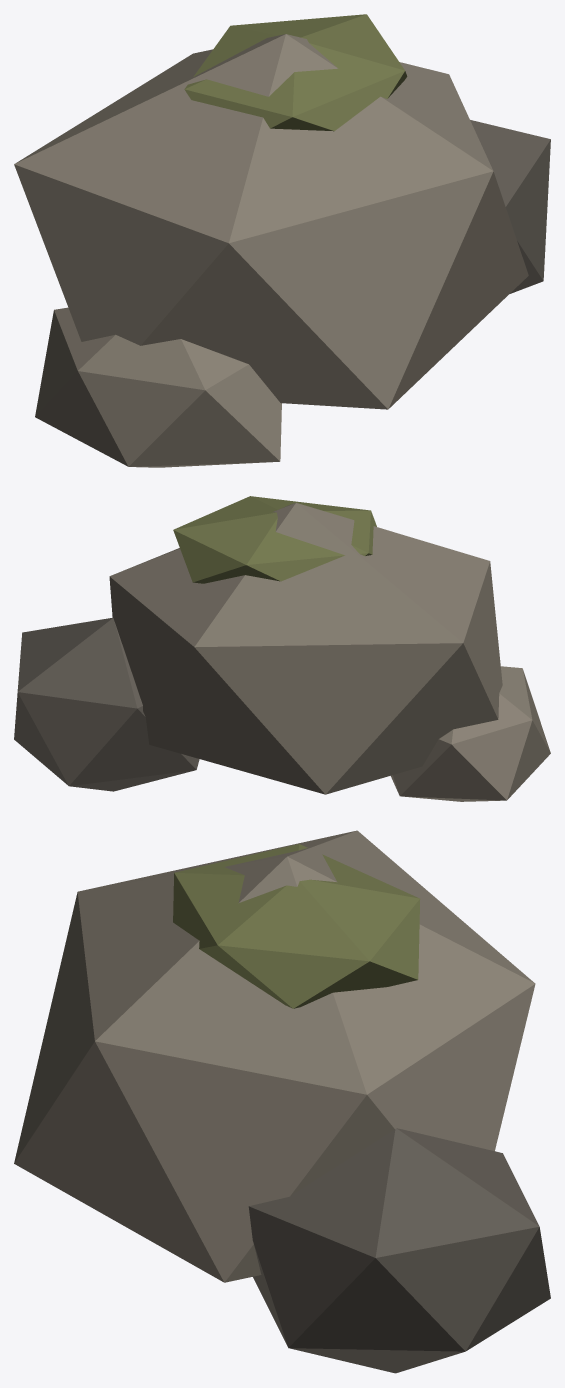
File: matacao.glb
3 views of the same model, one above another, from view 1: azimuth 30°, elevation 25°; view 2: azimuth 150°, elevation 25°; view 3: azimuth 270°, elevation 25° (orthographic). The views are drawn at different scales.
Parts seen in each view (by area): view 1: matacao; view 2: matacao; view 3: matacao.
Boxes of the visible parts, bbox=[...] form: matacao: bbox=[14, 14, 550, 467]; matacao: bbox=[14, 496, 550, 801]; matacao: bbox=[14, 830, 550, 1373].
Size of the model in its own units: 4.04 by 2.55 by 2.97.
